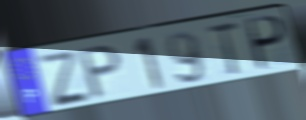1: (133, 34, 167, 92)
9: (166, 29, 207, 85)
P: (78, 42, 123, 103), (246, 14, 289, 73)
T: (204, 20, 242, 78)
Z: (35, 48, 91, 109)
